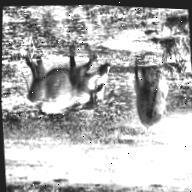boar: (14, 47, 114, 126), (128, 55, 178, 128)
